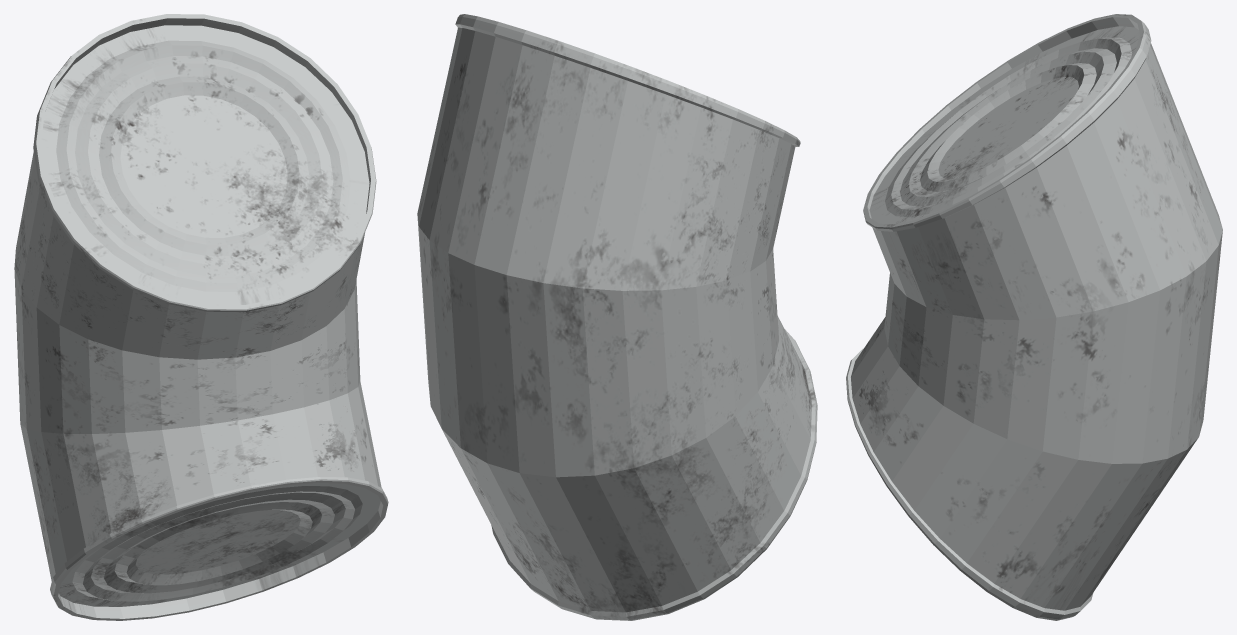
Rendered from bend_high_0.obj.
3 renders of one model, left to right at view 1: azimuth 30°, elevation 25°; view 2: azimuth 150°, elevation 25°; view 3: azimuth 270°, elevation 25°, orthographic. The views are drawn at different scales.
Parts seen in each view (by area): view 1: Cam_l__0; view 2: Cam_l__0; view 3: Cam_l__0.
Boxes of the visible parts, box(x1,y1,x2,y2) form: Cam_l__0: box(14, 14, 388, 620); Cam_l__0: box(417, 14, 817, 620); Cam_l__0: box(846, 14, 1222, 620).
Bounding box in the file's own units: 0.0953 × 0.1692 × 0.1027.
1 material, 1 textured.
